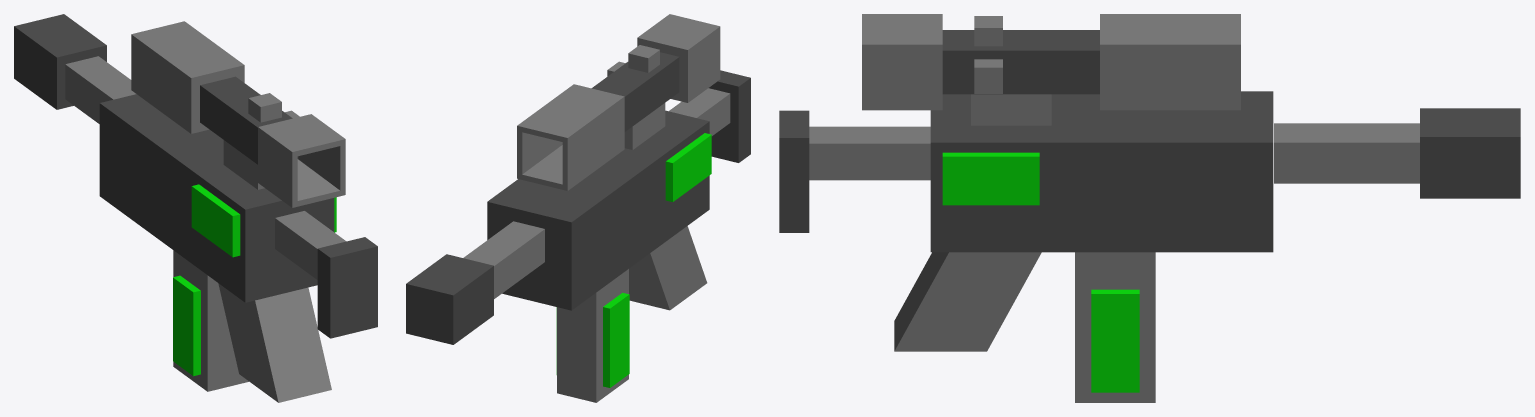
The model's file is example_weapon.fbx.
The picture shows the model from 3 angles, left to right: view 1: azimuth 30°, elevation 25°; view 2: azimuth 150°, elevation 25°; view 3: azimuth 270°, elevation 25°; orthographic projection. The views are drawn at different scales.
Parts seen in each view (by area): view 1: BaseMedium, ScopeBig, ButtstockSmall, BarrelBig, MagazineMedium; view 2: BaseMedium, ScopeBig, BarrelBig, MagazineMedium, ButtstockSmall; view 3: BaseMedium, ScopeBig, BarrelBig, MagazineMedium, ButtstockSmall.
Part boxes in pixels (x1,y1,x2,y2): BaseMedium: (99,94,336,402); ScopeBig: (131,21,345,207); ButtstockSmall: (275,211,377,338); BarrelBig: (14,14,135,123); MagazineMedium: (173,250,248,391); BaseMedium: (487,110,711,310); ScopeBig: (517,14,720,190); BarrelBig: (406,221,544,344); MagazineMedium: (556,269,629,402); ButtstockSmall: (669,70,750,162); BaseMedium: (894,91,1273,351); ScopeBig: (862,14,1240,125); BarrelBig: (1274,108,1520,198); MagazineMedium: (1075,252,1155,402); ButtstockSmall: (779,110,930,232).
Bounding box in the file's own units: 70 × 202 × 368.
